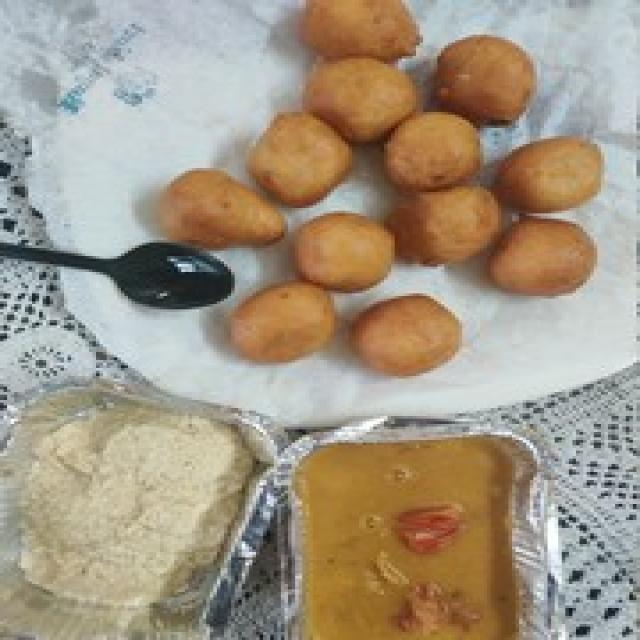BONDA: (154, 0, 601, 373)
SAMBAR: (293, 439, 603, 640)
WHITE CHUTNEY: (11, 389, 254, 627)
